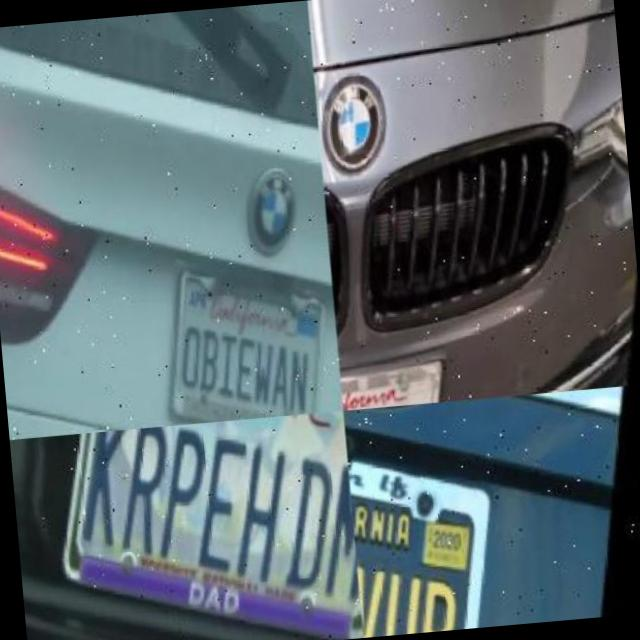LicensePlate: (53, 410, 363, 640), (343, 396, 536, 638), (152, 238, 341, 426), (338, 347, 441, 409)
